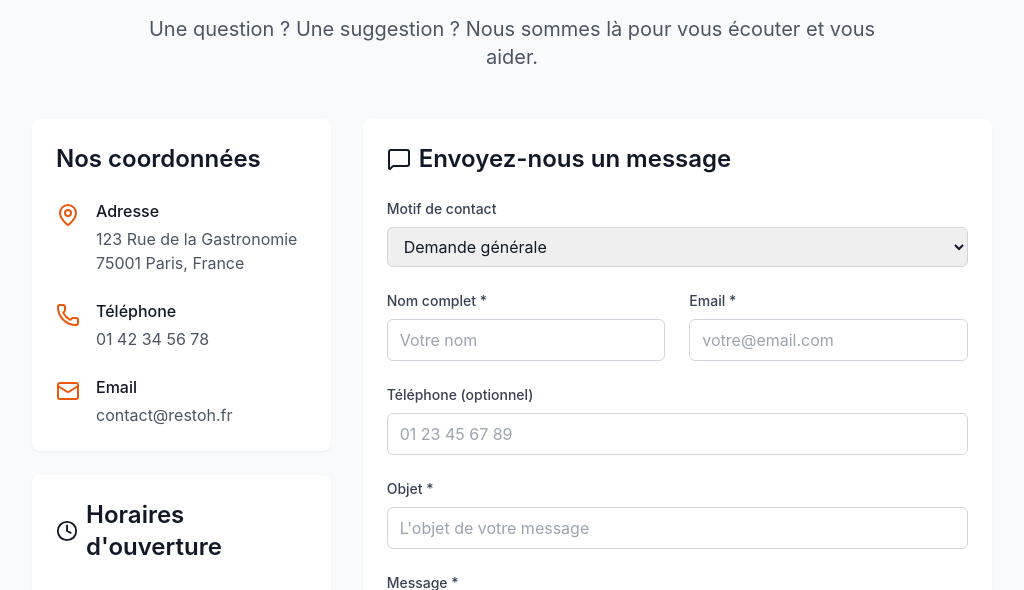
Test case: Contact Component › should disable submit button when form is invalid
Fill form with valid data but message too short
Type "Jean Dupont" into the field with placeholder "Votre nom" at (526, 340), box [387,319,665,361]
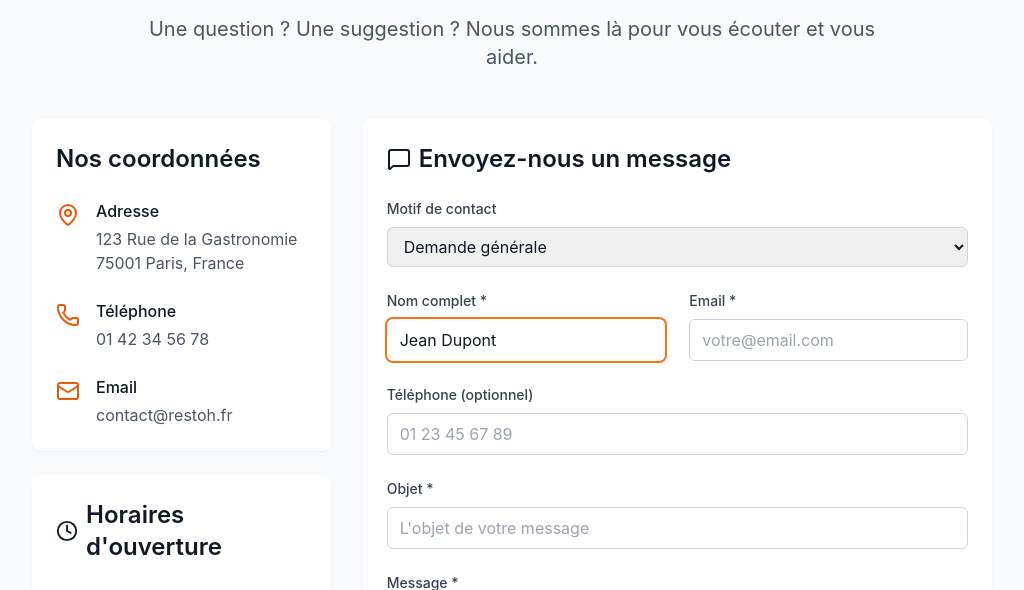
Type "jean@email.com" into the field with placeholder "votre@email.com" at (829, 340), box [689,319,968,361]
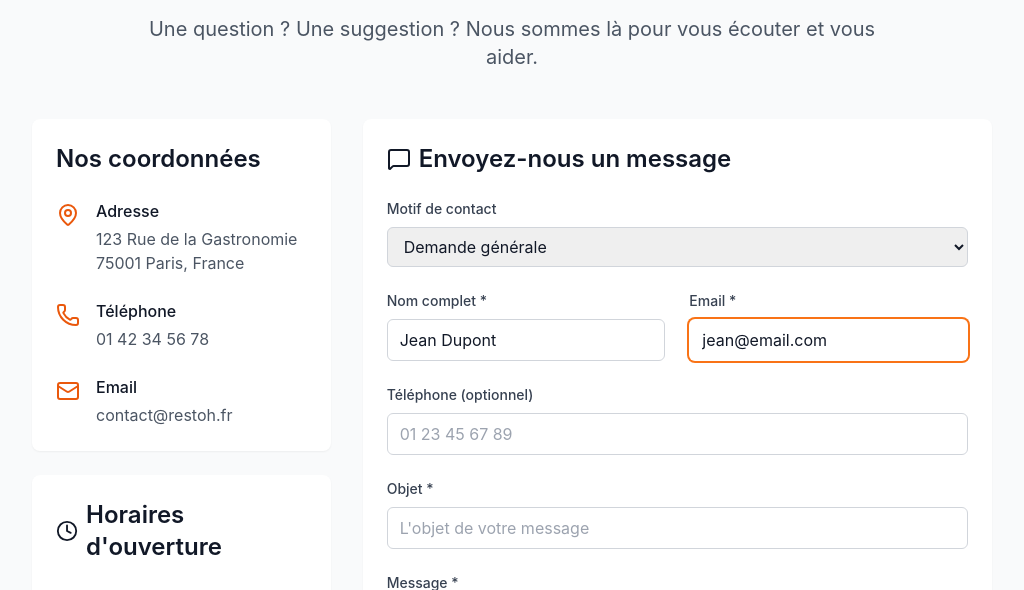
Type "Test subject" into the field with placeholder "L'objet de votre message" at (677, 528), box [387,507,968,549]
(page scrolled)
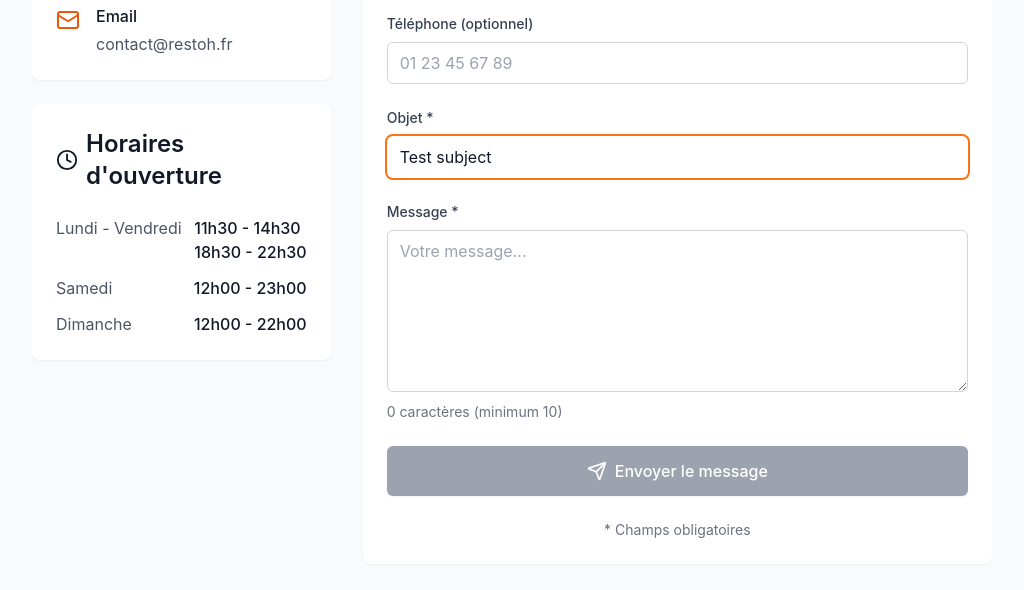
Type "Court" into the text box with placeholder "Votre message..." at (677, 311), box [387,230,968,392]
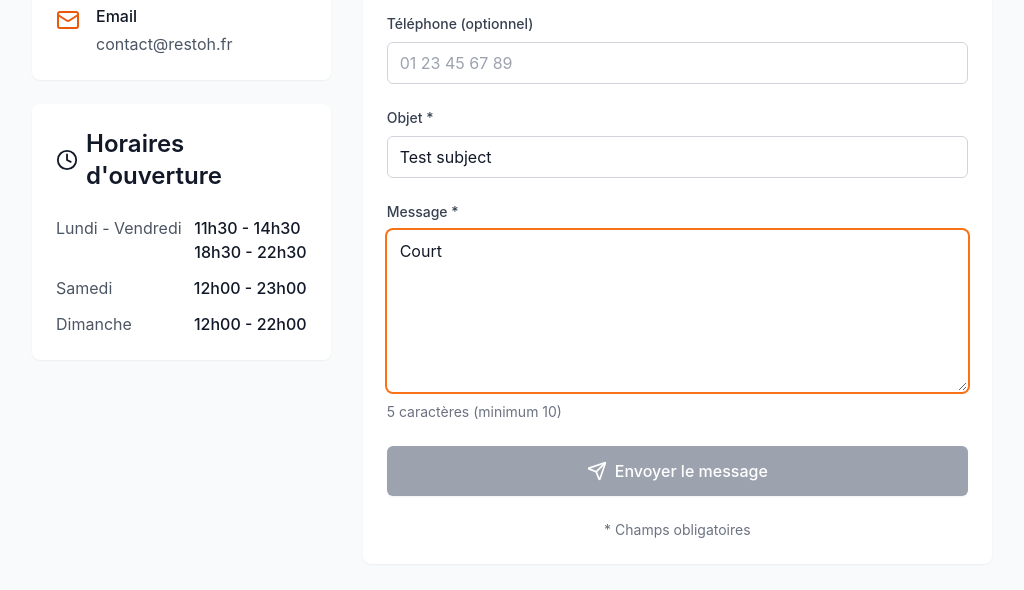
Expected: the button "Envoyer le message" is disabled, [387,446,968,496]
Complete the message to make it valid
Type " message valide" into the text box with placeholder "Votre message..." at (677, 311), box [387,230,968,392]
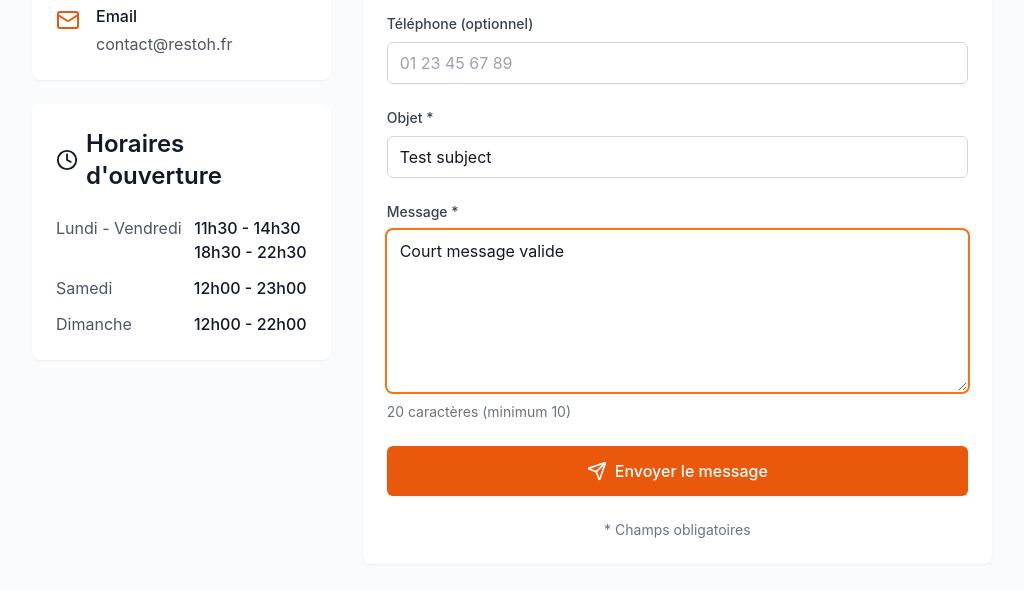
Result: the button "Envoyer le message" is enabled at [387,446,968,496]
